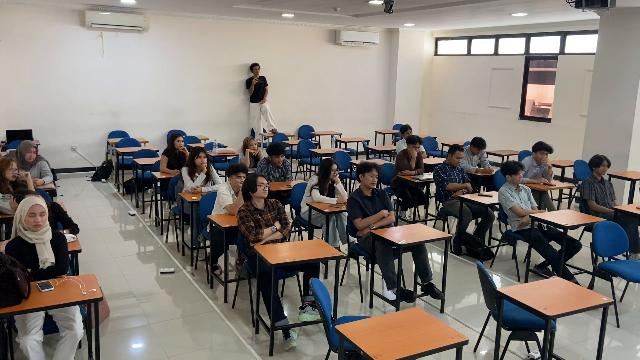bingung: (28, 209, 46, 228), (6, 164, 18, 181), (366, 172, 378, 189), (257, 181, 269, 197), (26, 148, 37, 162), (514, 170, 524, 184), (453, 152, 462, 167), (538, 150, 548, 163), (599, 161, 609, 174), (331, 165, 339, 181), (196, 154, 207, 165), (249, 139, 258, 151), (236, 173, 246, 183), (411, 144, 421, 154), (175, 137, 184, 147)
